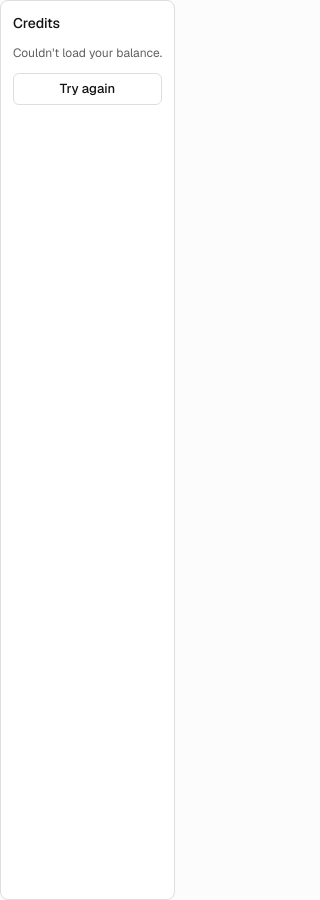
Test: SidebarCredits › shows an error with retry
Check: the message shows "Couldn't load your balance.", box [13,45,162,61]
Click the button "Try again". click: {"x": 88, "y": 89}
box: [13,73,162,105]
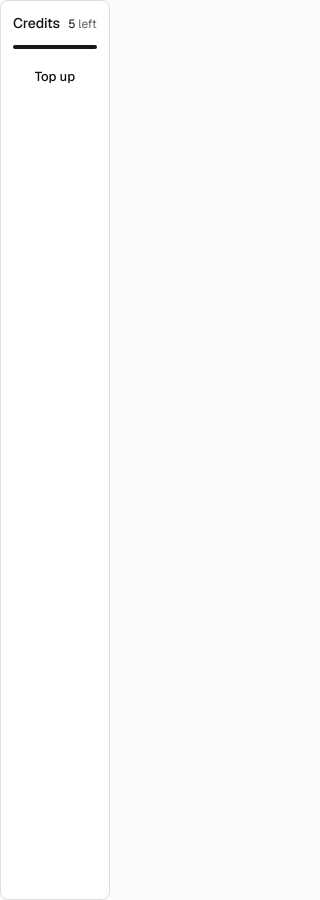
Check: the text "5" is shown, box [68,16,75,32]
